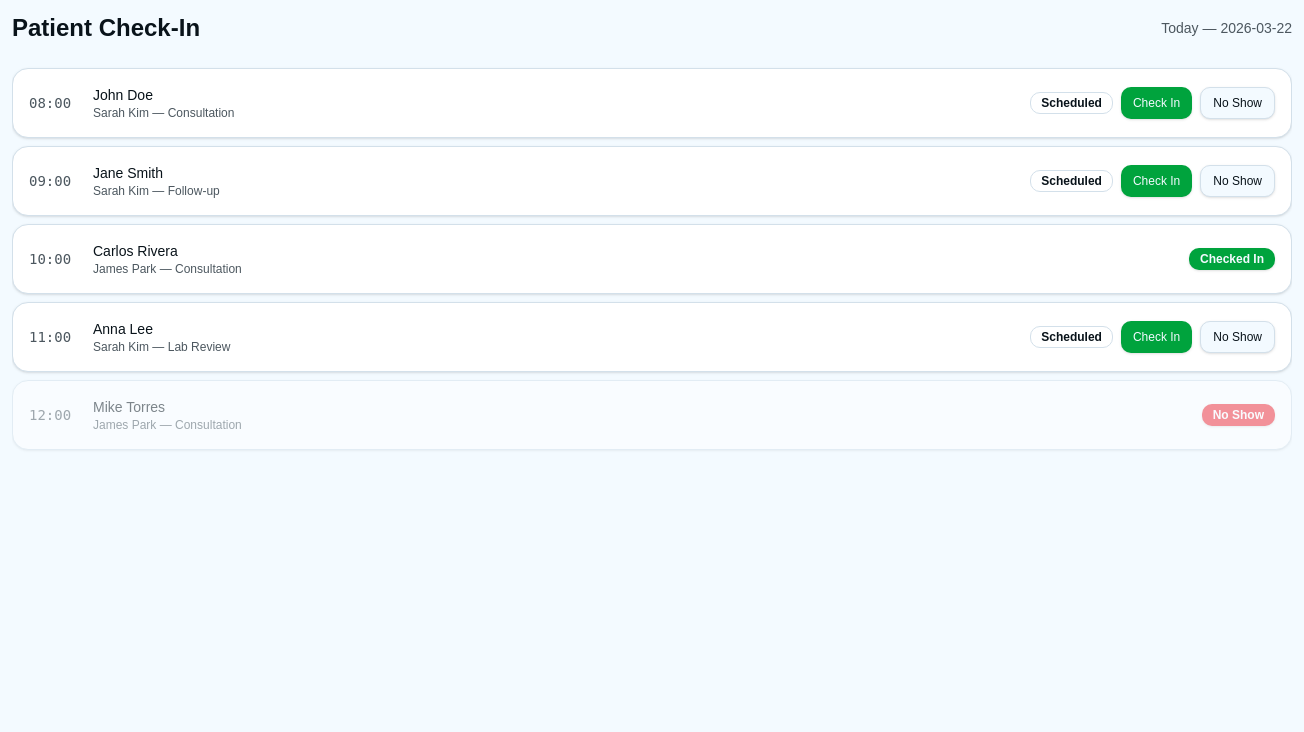
CheckInPage (CC-63) › Check In button updates row status to Checked In
This screenshot has width=1304, height=732.
expect the text "John Doe" is shown: met, box x1=93 y1=87 x2=153 y2=103
What coordinates should you click on to do the following:
click the button "Check In" in the row of "John Doe"
I would click on:
 (1157, 103)
Its box is x1=1121 y1=87 x2=1192 y2=119.
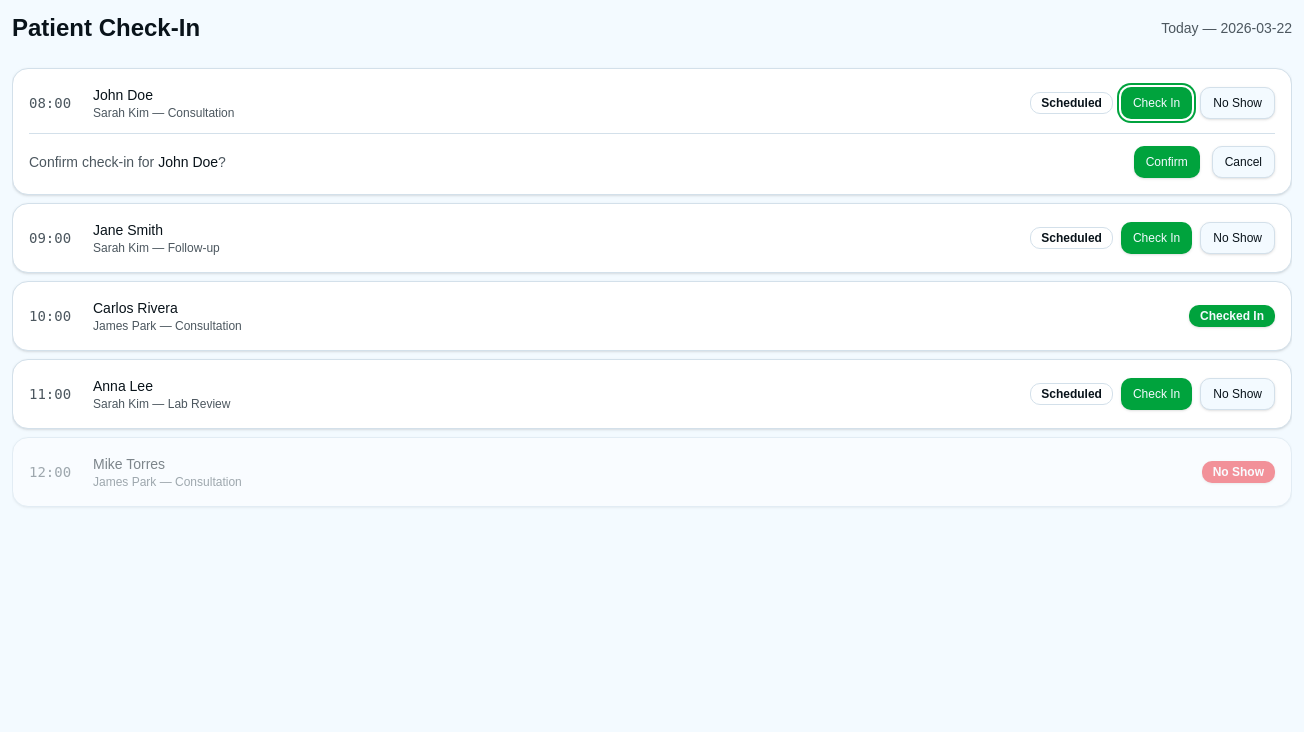
expect the button "Confirm" is shown: met
What coordinates should you click on to do the following:
click the button "Confirm"
I would click on:
 (1167, 162)
Its box is x1=1134 y1=146 x2=1200 y2=178.
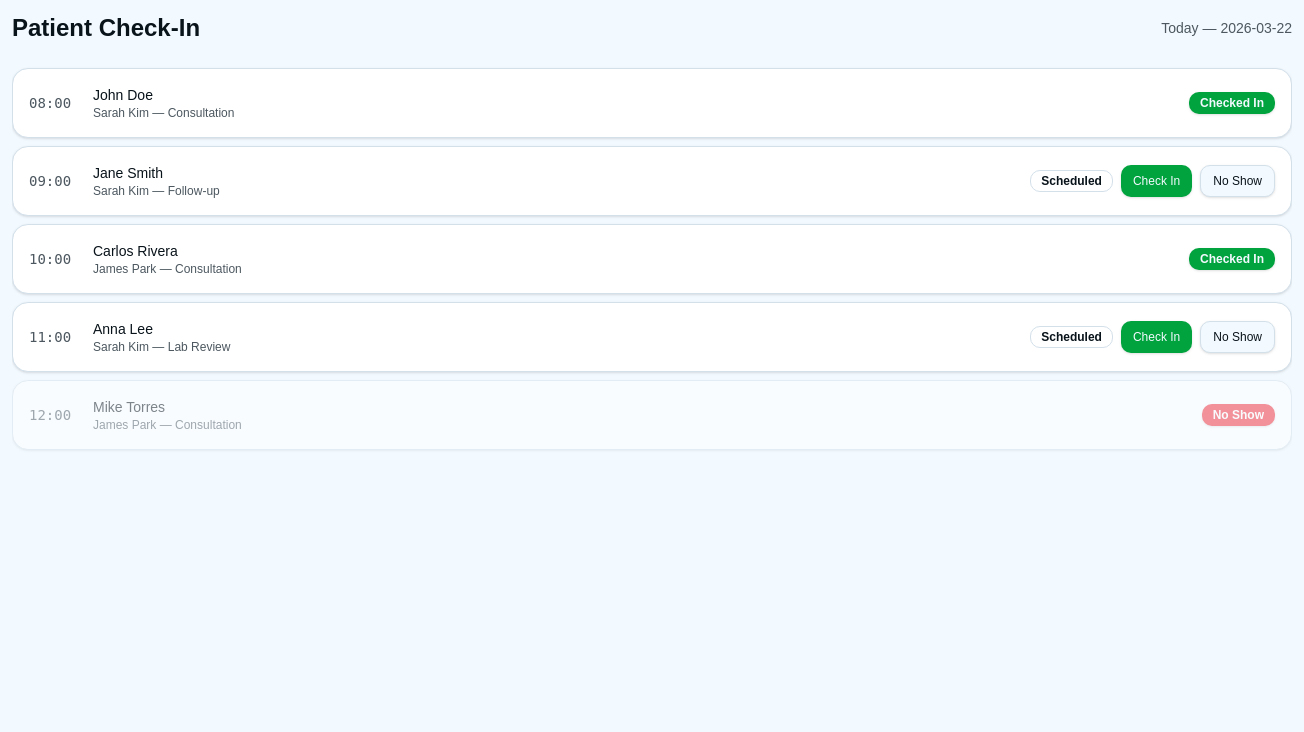
expect the text "Checked In" in the row of "John Doe" is shown: met, box x1=1200 y1=96 x2=1264 y2=110
